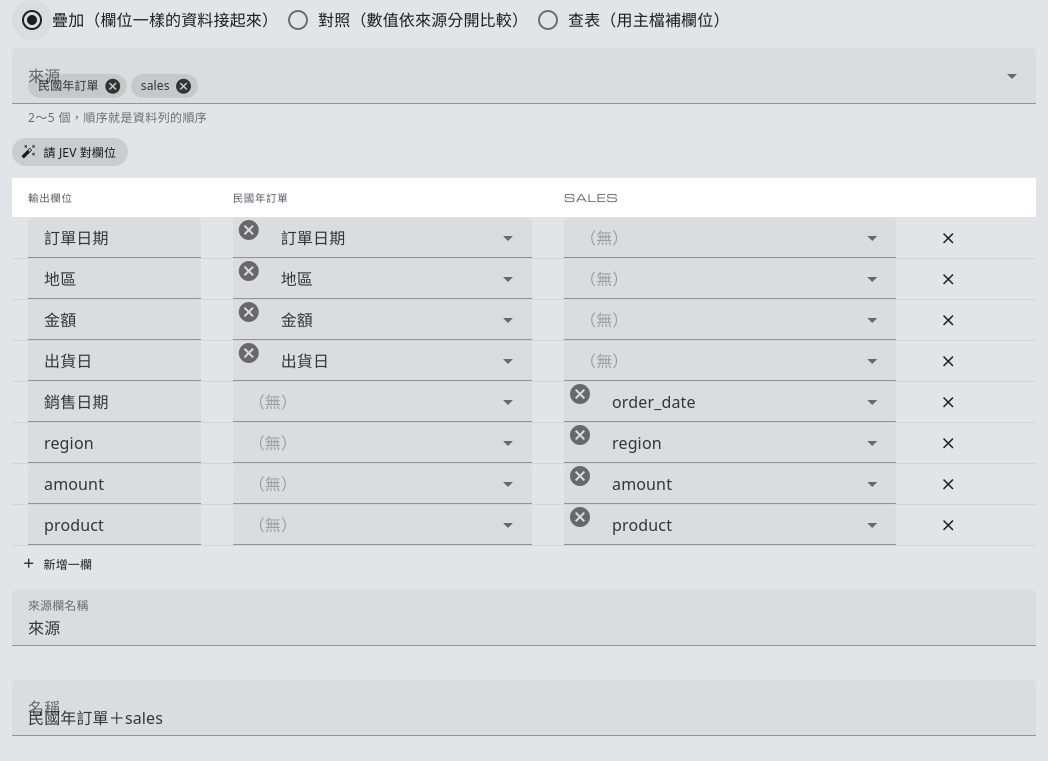
it: MergeForm（JEV 對欄位） › leaves a renamed row alone
Click the button "請 JEV 對欄位" at (70, 152), box [12,138,128,166]
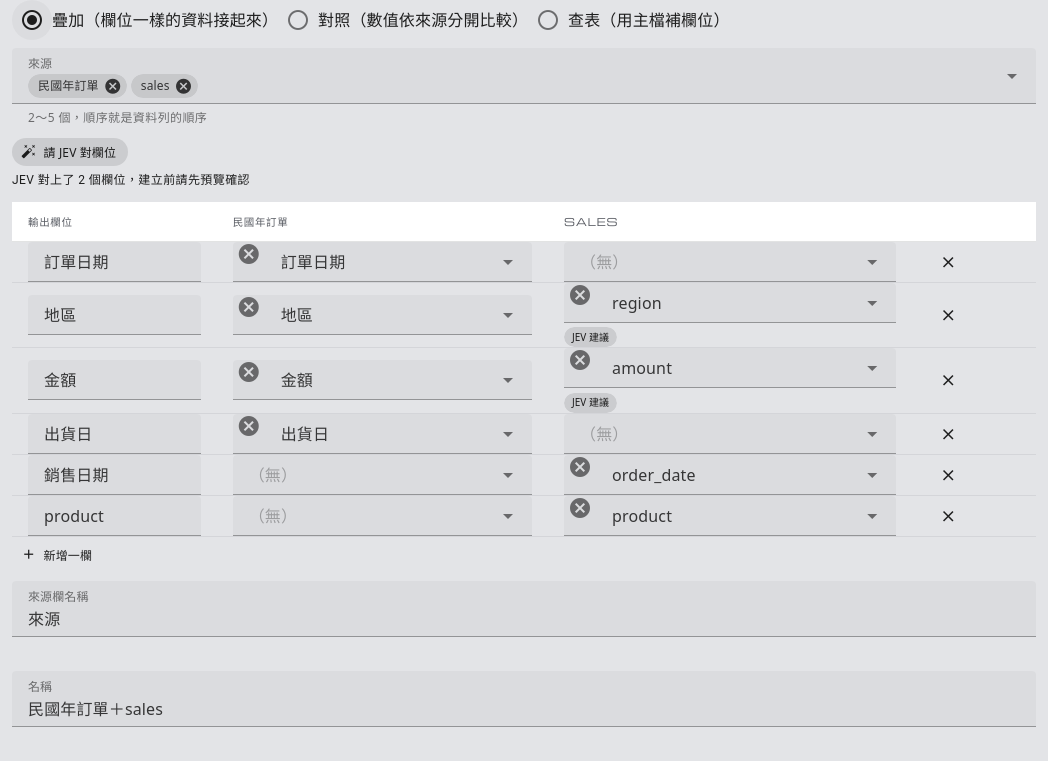
Now the text "JEV 對上了 2 個欄位" is shown, box [12,173,250,187]
